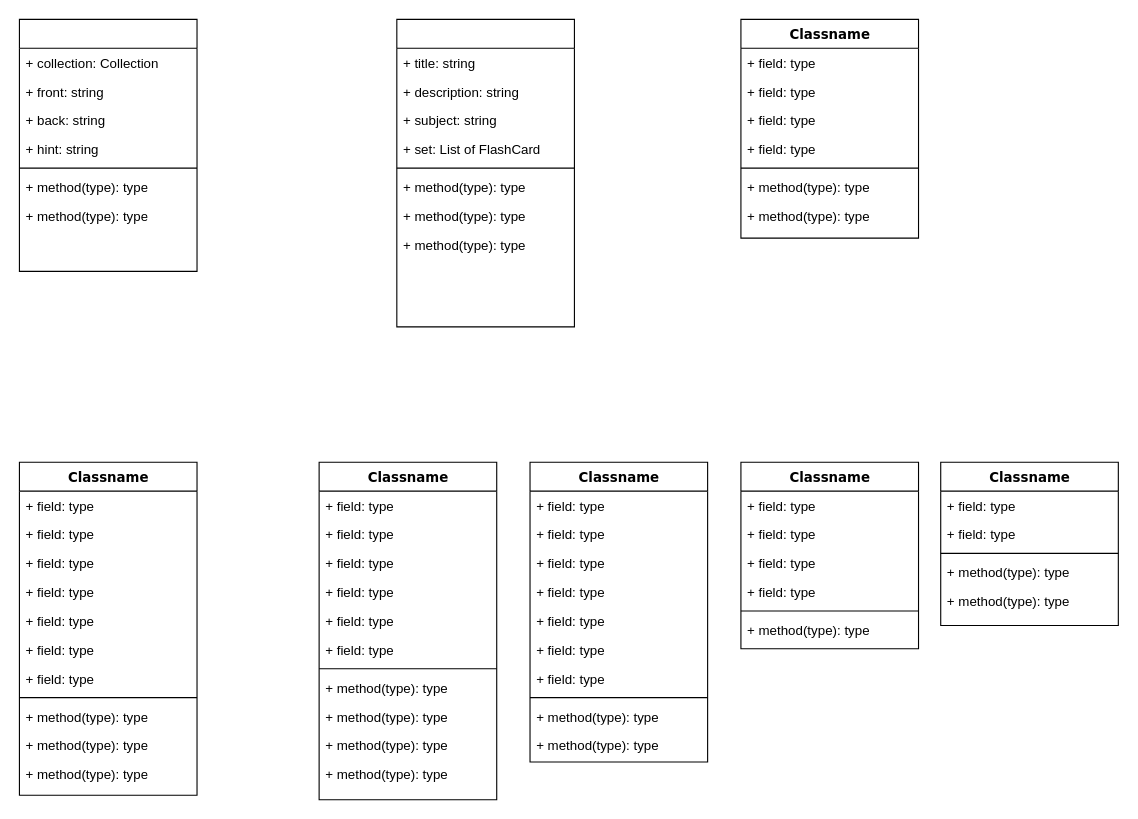
Image size: 1138x819. Some labels were removed from this diagram. Here are the shapes that lost their labels. From the top down, the box of each, then its label:
(18, 18, 197, 271): FlashCard
(396, 18, 574, 327): Collection
